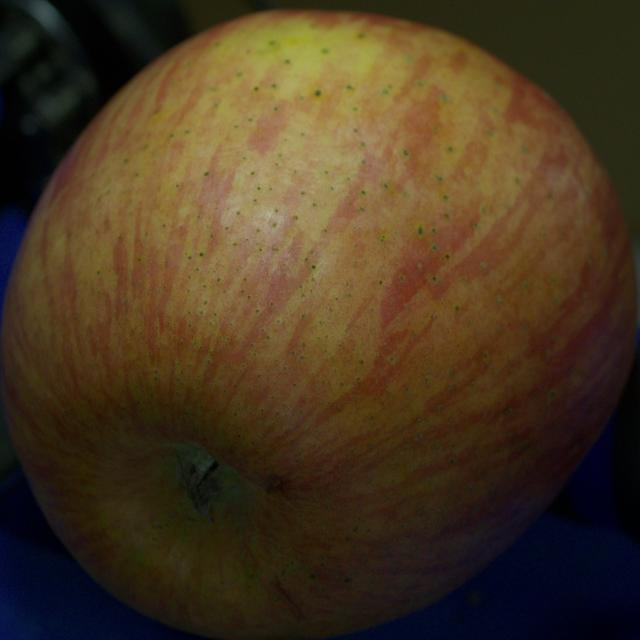apple: (0, 11, 636, 639)
pest: (267, 477, 283, 492)
scratch: (272, 579, 304, 621)
